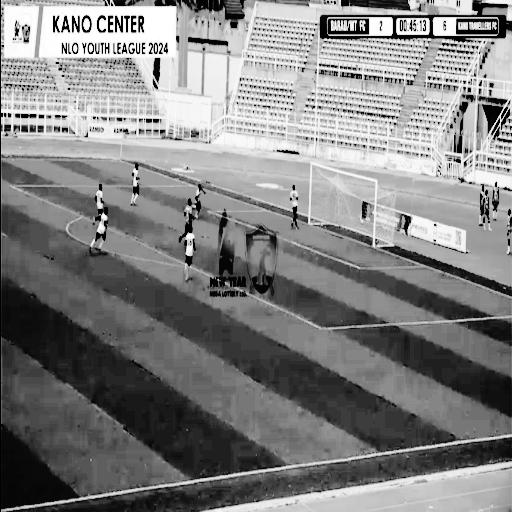ball: (359, 216, 366, 226)
keeper2: (174, 195, 196, 241)
team1: (78, 204, 112, 260), (126, 156, 144, 209), (182, 224, 196, 283), (192, 178, 211, 220)
team2: (286, 184, 304, 238), (92, 178, 106, 218)
